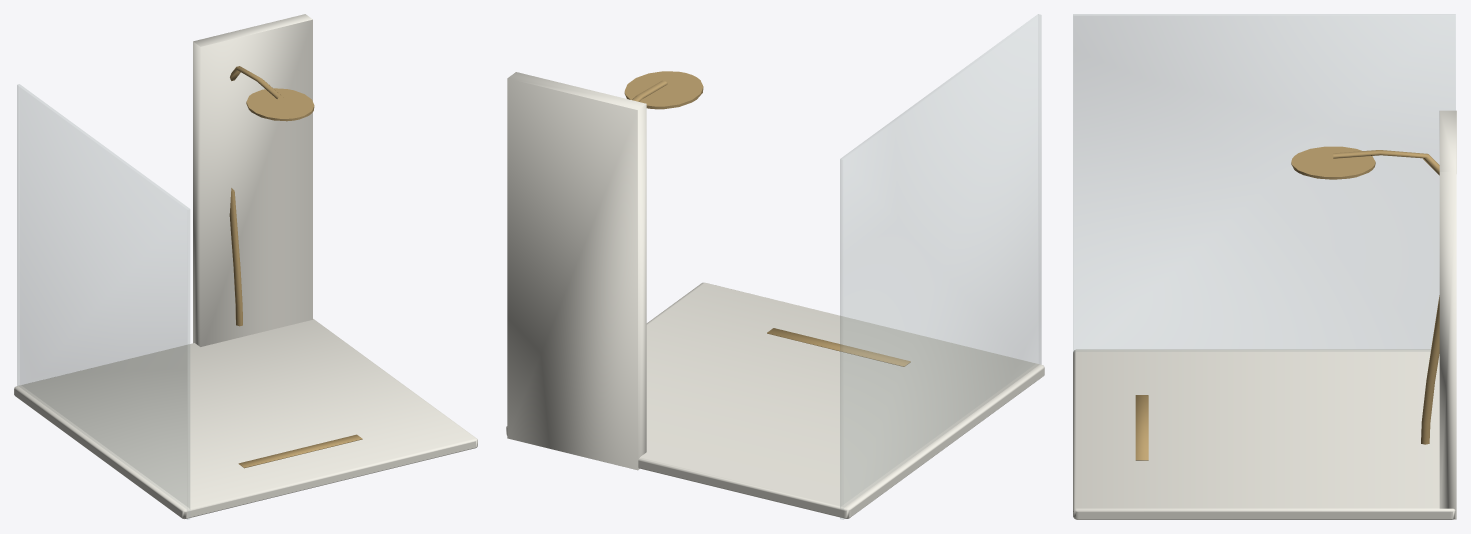
File: shower-11-2.lod.glb
The picture shows the model from 3 angles, left to right: view 1: azimuth 30°, elevation 25°; view 2: azimuth 150°, elevation 25°; view 3: azimuth 270°, elevation 25°; orthographic projection. The views are drawn at different scales.
Visible parts, largest first — view 1: upholstery (×2), part; view 2: upholstery (×2), part; view 3: upholstery (×2), part.
Boxes of the visible parts, x1=… form: upholstery (×2): x1=14, y1=14, x2=477, y2=519; part: x1=229, y1=66, x2=362, y2=468; upholstery (×2): x1=506, y1=14, x2=1044, y2=519; part: x1=624, y1=71, x2=910, y2=366; upholstery (×2): x1=1073, y1=14, x2=1456, y2=519; part: x1=1135, y1=146, x2=1439, y2=460.
Size of the model in its own units: 1 by 1 by 1.
